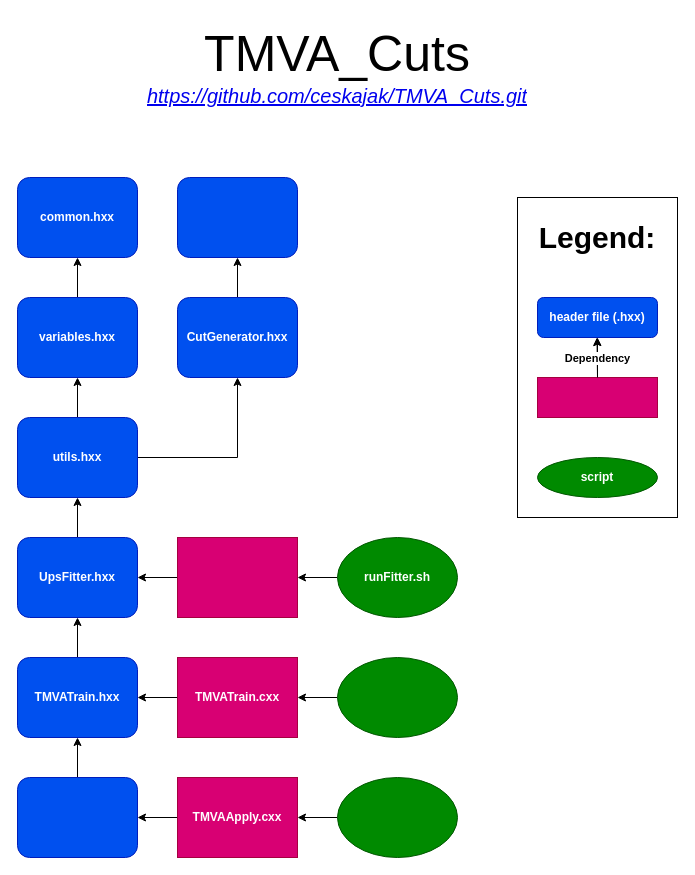
Image size: 695x875. Some labels were removed from this diagram. Here are the shapes that lost their labels. From the top down, the centre of each, then its label:
At [237,217]: "cuts.hxx".
At [597,397]: "source file (.cxx)".
At [237,577]: "UpsFitter.cxx".
At [397,697]: "runTMVATrain.sh".
At [77,817]: "TMVAApply.hxx".
At [397,817]: "runTMVAApply.sh".
